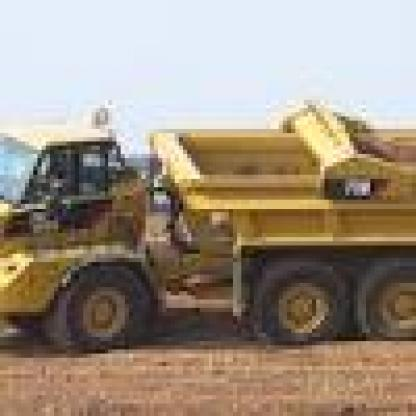dump_truck: (0, 96, 412, 370)
